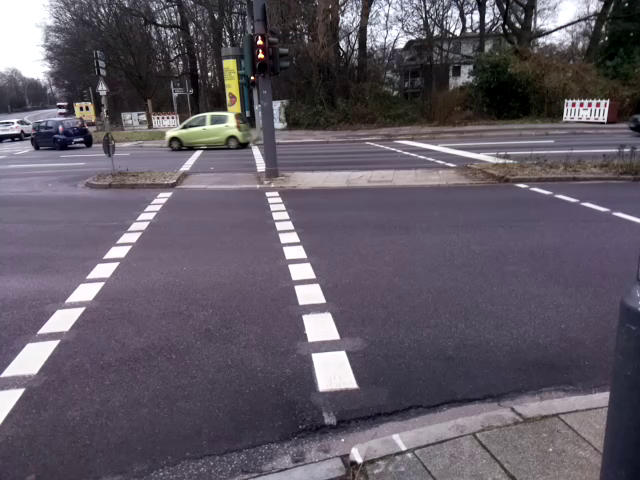car: (162, 111, 253, 150)
